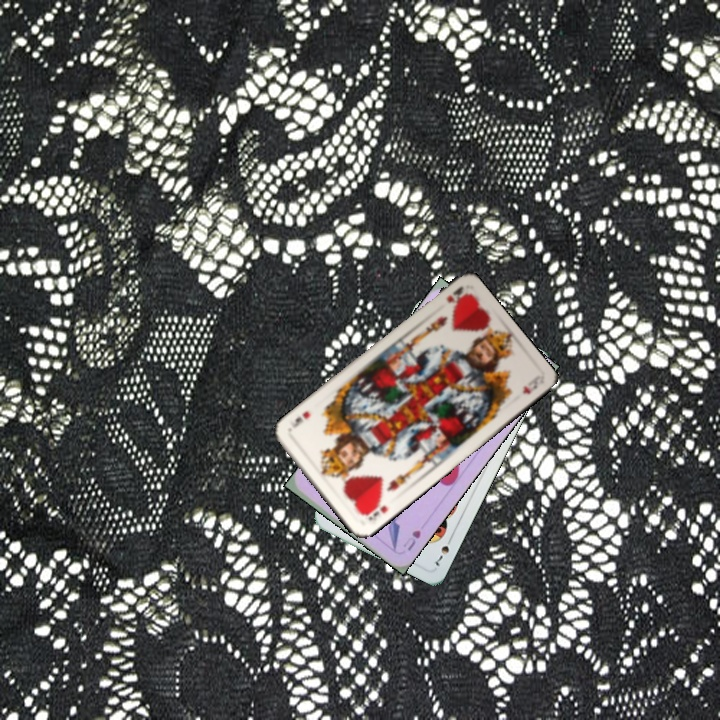HK: (361, 496, 391, 523), (442, 283, 469, 306)
HU: (399, 526, 423, 553)
S7: (431, 532, 455, 569)
